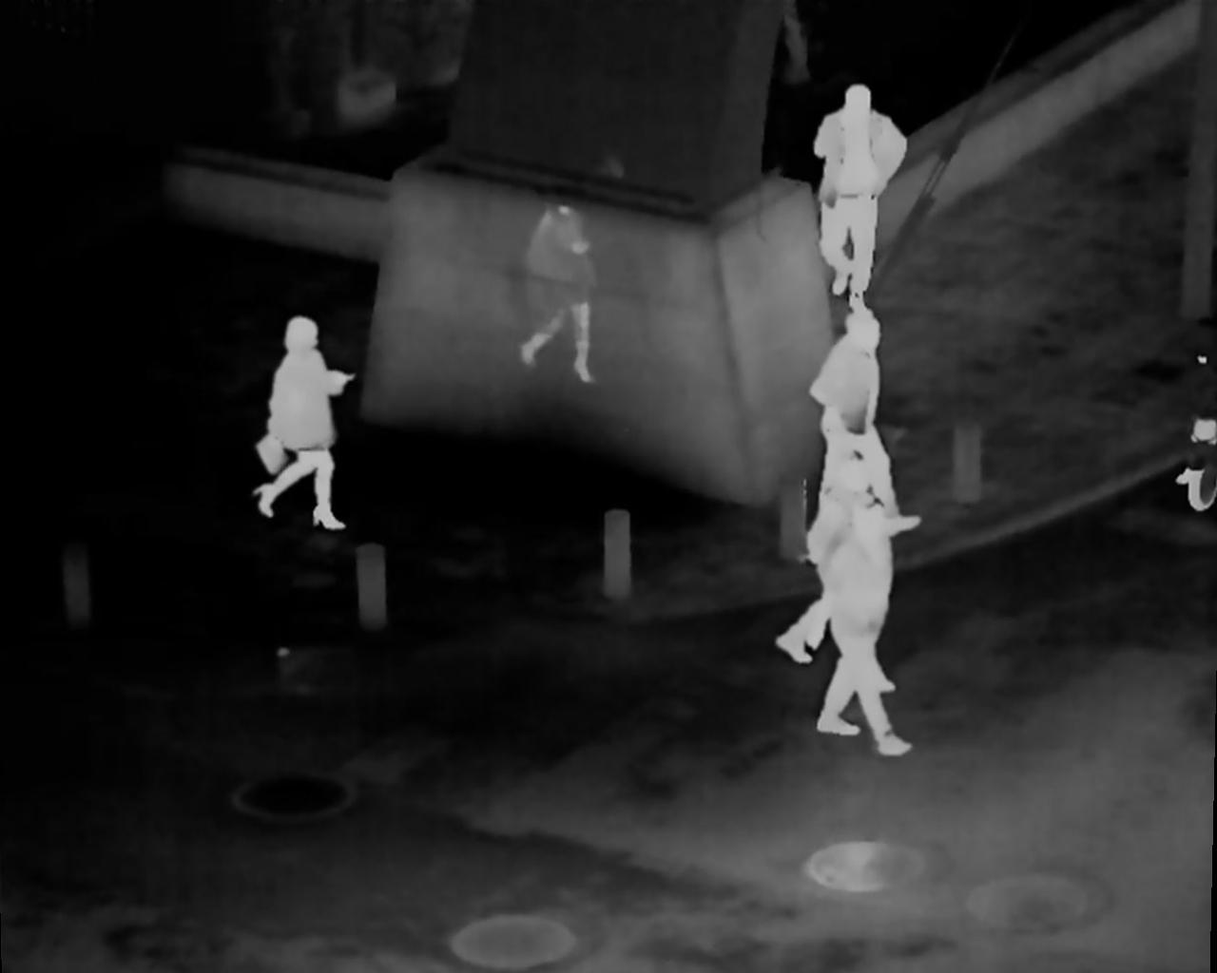person: (795, 463, 918, 764), (806, 312, 918, 535), (252, 315, 357, 533), (813, 85, 908, 296)
